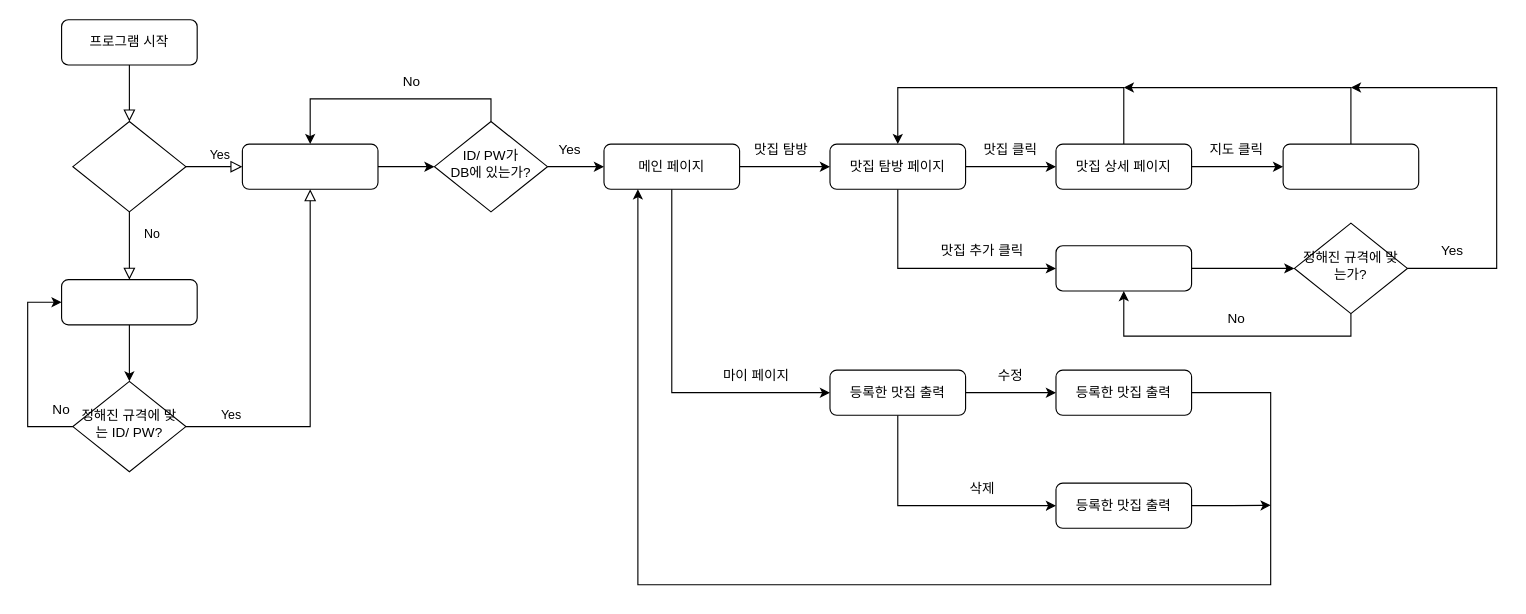
This 1526x614 diagram has some shape labels left out. Here are the shapes that lost their labels. From the top down, the centre of each, then its label:
At [129,166]: "회원인가?".
At [309,166]: "로그인 진행".
At [1350,166]: "네이버 지도".
At [1123,268]: "맛집 추가 페이지".
At [128,302]: "회원가입 페이지".
